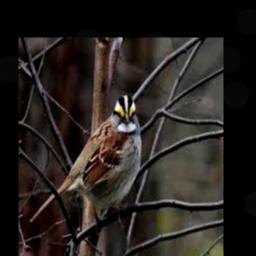Sparrow: (29, 94, 141, 225)
